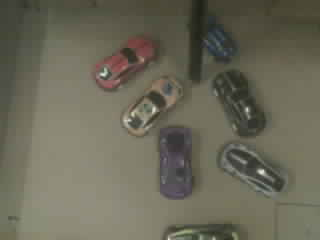Car: (121, 76, 182, 136), (218, 143, 286, 195), (213, 70, 265, 136), (95, 37, 153, 89), (159, 126, 192, 198), (204, 18, 236, 60), (166, 224, 238, 239)
